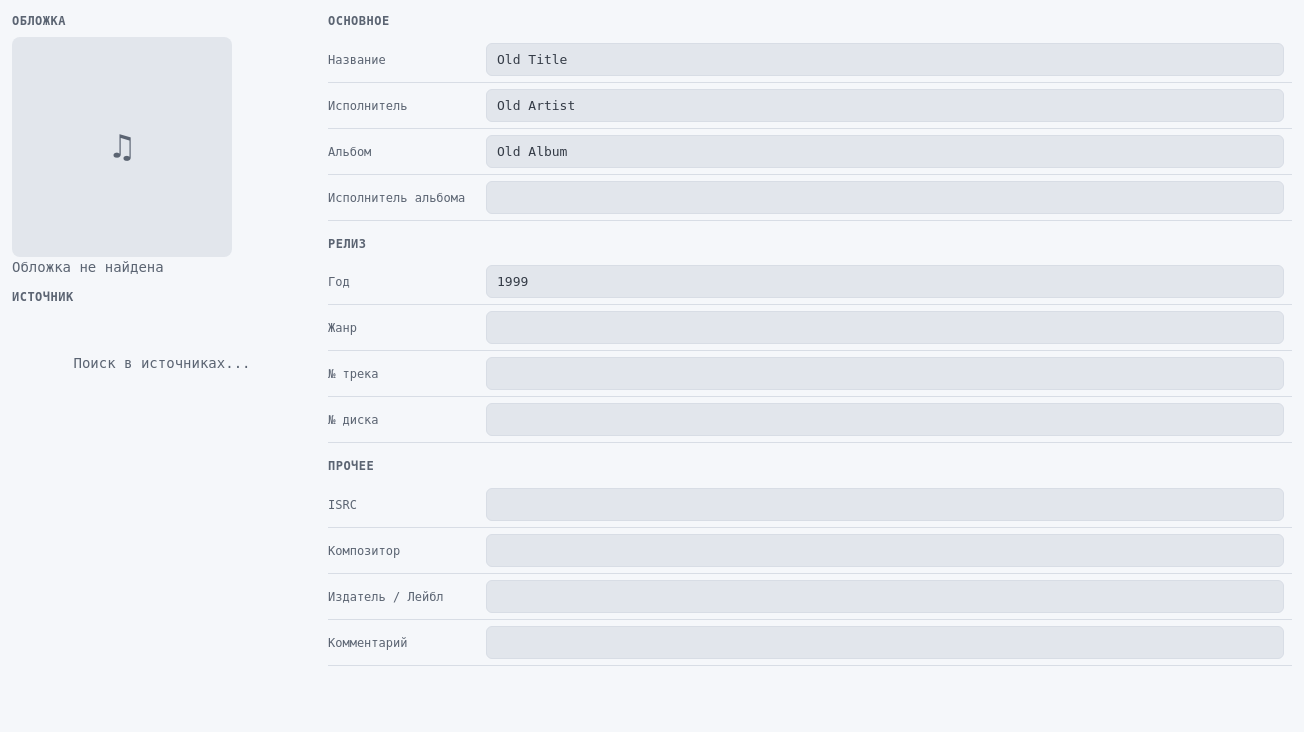
TrackEditor › валидация при сохранении: toast, ошибка у поля, сеть не трогаем
Type "20" into the field labelled "Год" at (885, 282), box [486, 265, 1284, 298]
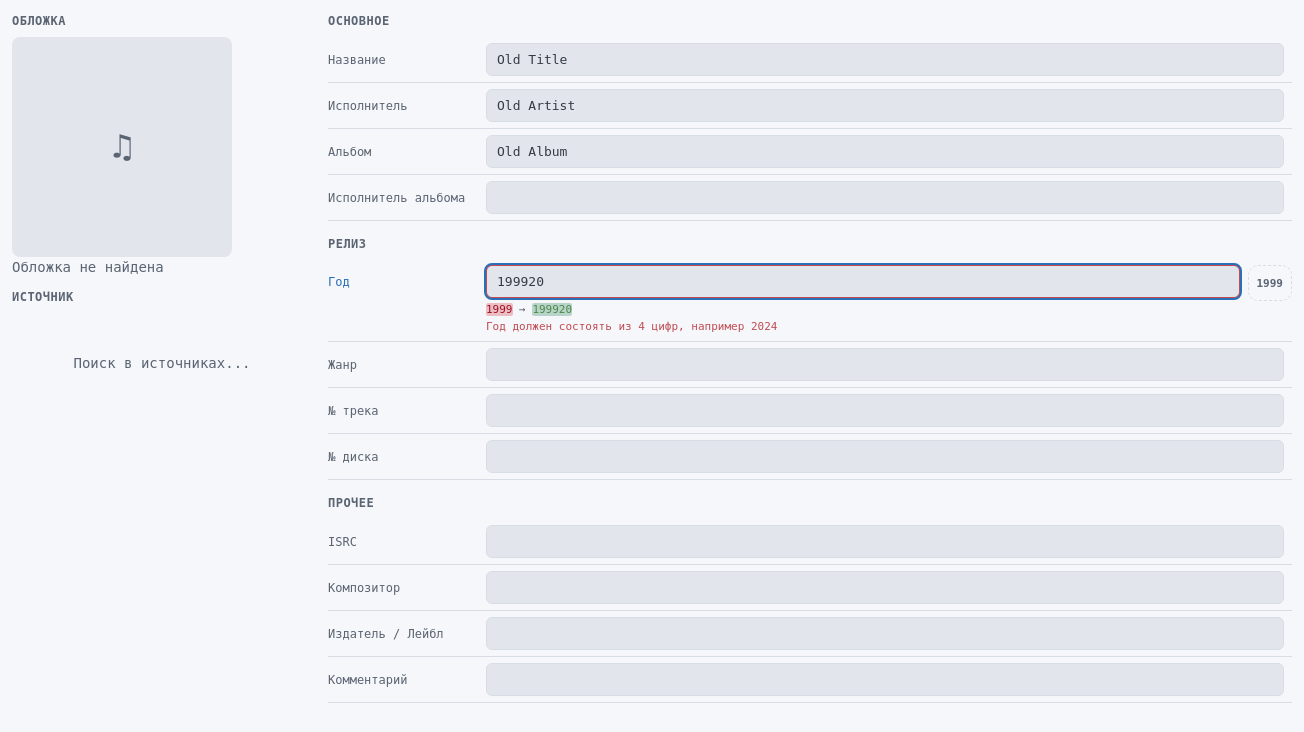
Expected: the text "Год должен состоять из 4 цифр, например 2024" is shown, [486, 320, 777, 333]
